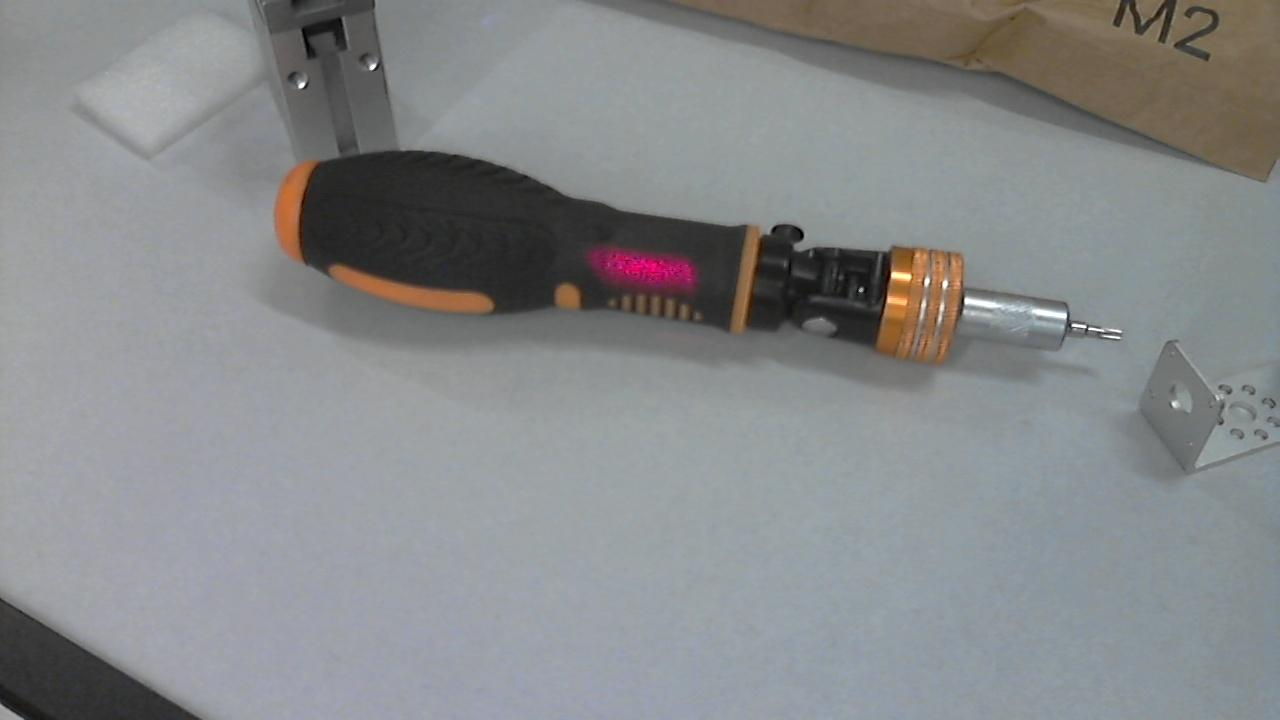Object protective phone case - Material rubber - Pdfname asdfeafgta: (585, 240, 704, 304)
